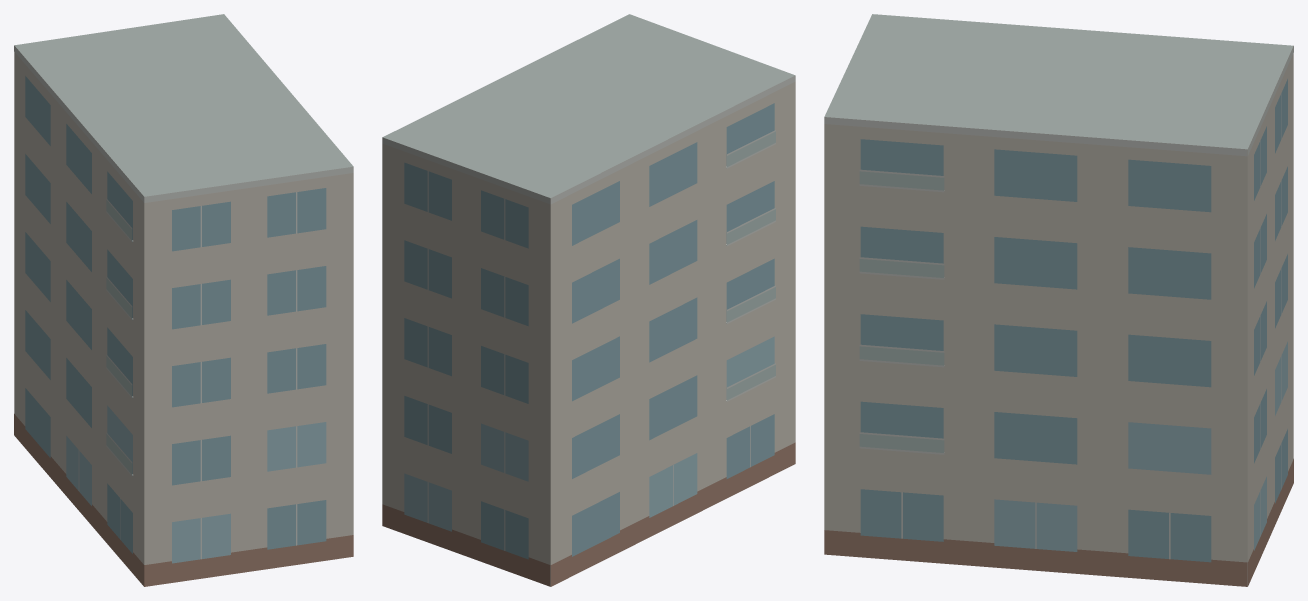
The model's file is survey-upis-32537229.glb.
3 views of the same model, side by side, from view 1: azimuth 30°, elevation 25°; view 2: azimuth 150°, elevation 25°; view 3: azimuth 270°, elevation 25° (orthographic). The views are drawn at different scales.
Parts seen in each view (by area): view 1: survey-upis-32537229.tmp; view 2: survey-upis-32537229.tmp; view 3: survey-upis-32537229.tmp.
Part boxes in pixels (x1,y1,x2,y2): survey-upis-32537229.tmp: [14, 14, 353, 586]; survey-upis-32537229.tmp: [382, 14, 795, 586]; survey-upis-32537229.tmp: [824, 14, 1293, 586].
Bounding box in the file's own units: 10.09 × 15.2 × 14.79.
